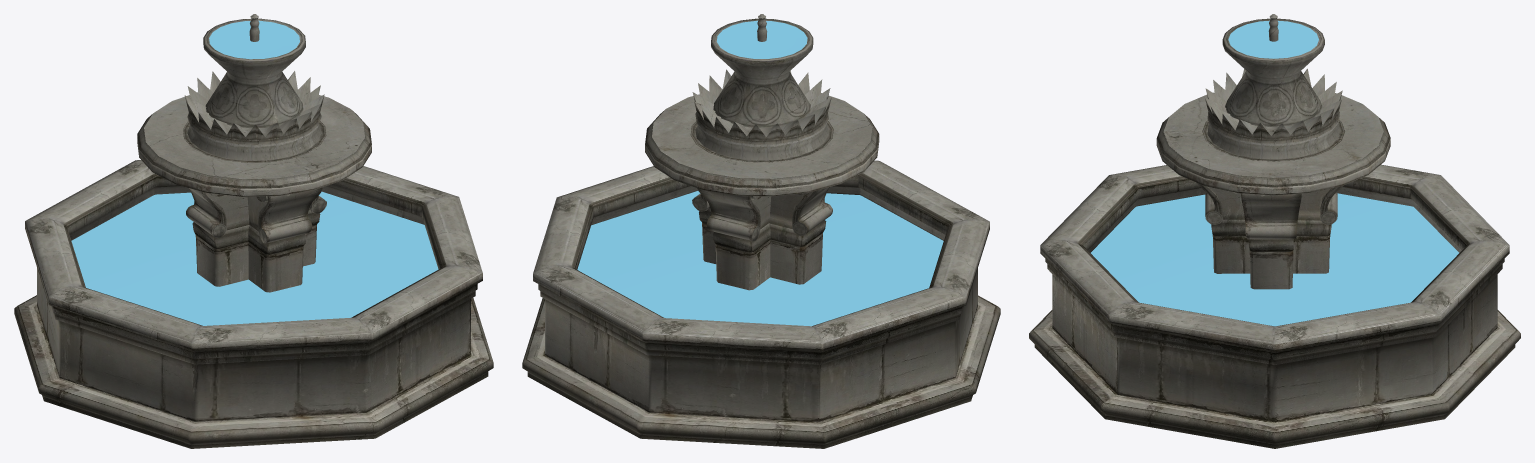
File: fountain-size-3.glb
The picture shows the model from 3 angles, left to right: view 1: azimuth 30°, elevation 25°; view 2: azimuth 150°, elevation 25°; view 3: azimuth 270°, elevation 25°; orthographic projection.
Visible parts, largest first — view 1: 222, grp2, grp3; view 2: 222, grp2, grp3; view 3: 222, grp2, grp3.
Boxes of the visible parts, x1,y1,x2,y2 form: 222: [14, 18, 493, 448]; grp2: [71, 20, 438, 325]; grp3: [144, 14, 364, 179]; 222: [522, 18, 1000, 448]; grp2: [577, 20, 943, 326]; grp3: [652, 14, 872, 178]; 222: [1029, 18, 1520, 448]; grp2: [1091, 20, 1458, 326]; grp3: [1163, 14, 1383, 177].
Bounding box in the file's own units: 2.48 × 1.85 × 2.48.
Materials: 3 (2 with a texture image).
